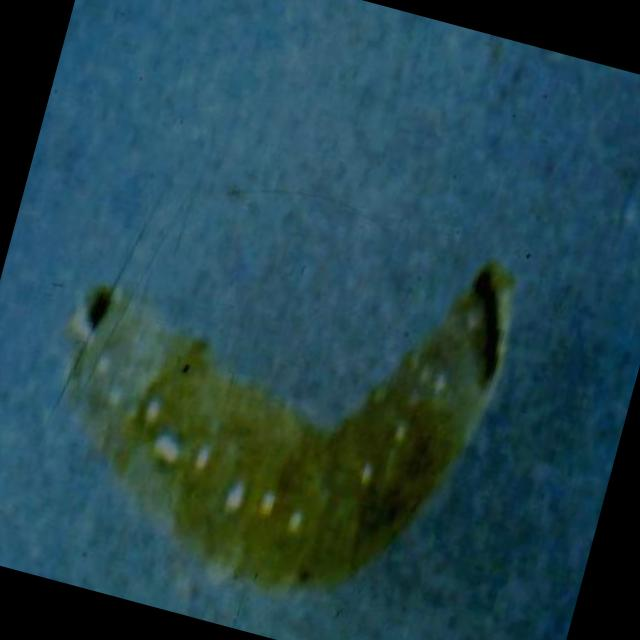whorl-maggot: (66, 259, 516, 592)
